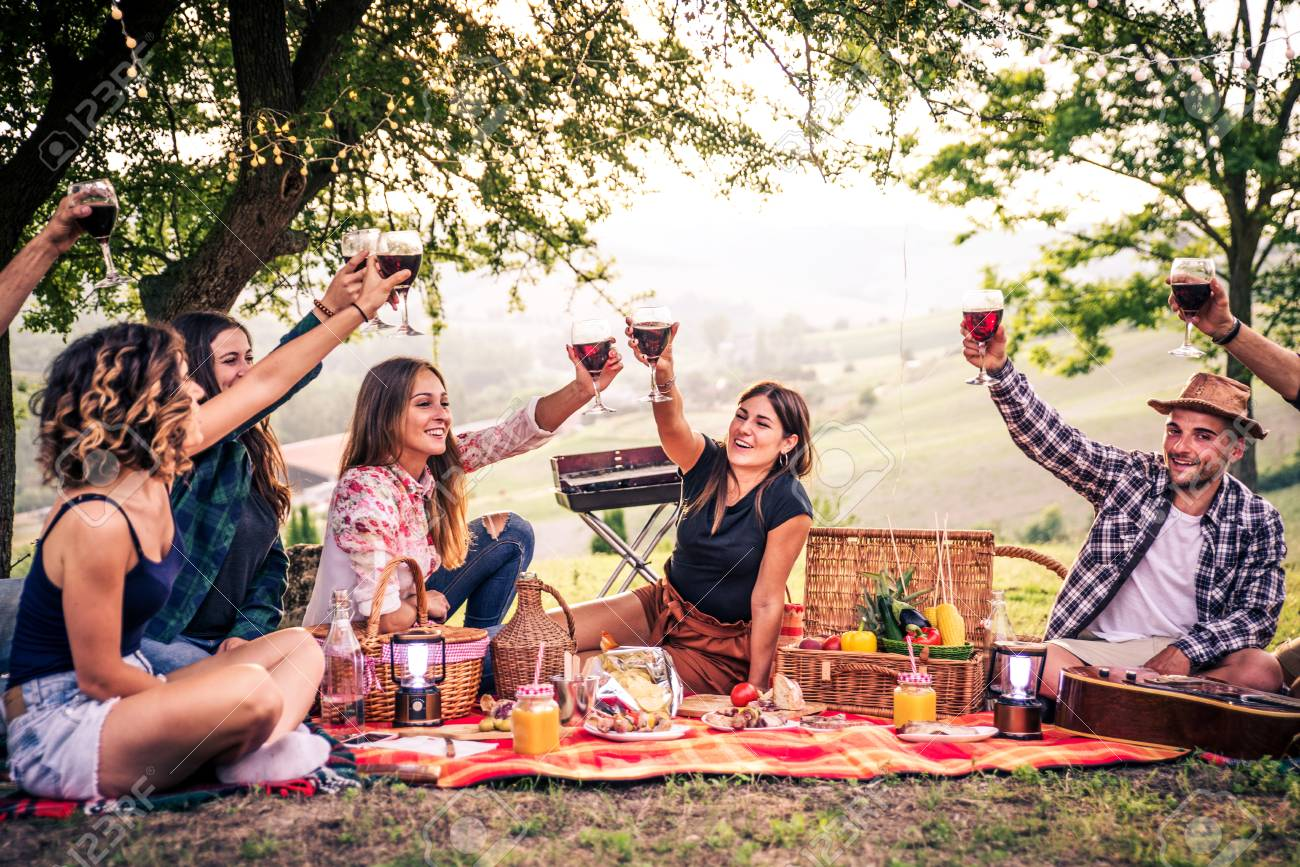Person: (3, 256, 412, 802), (959, 311, 1289, 699), (550, 315, 820, 700), (294, 334, 628, 636), (150, 247, 380, 650)
